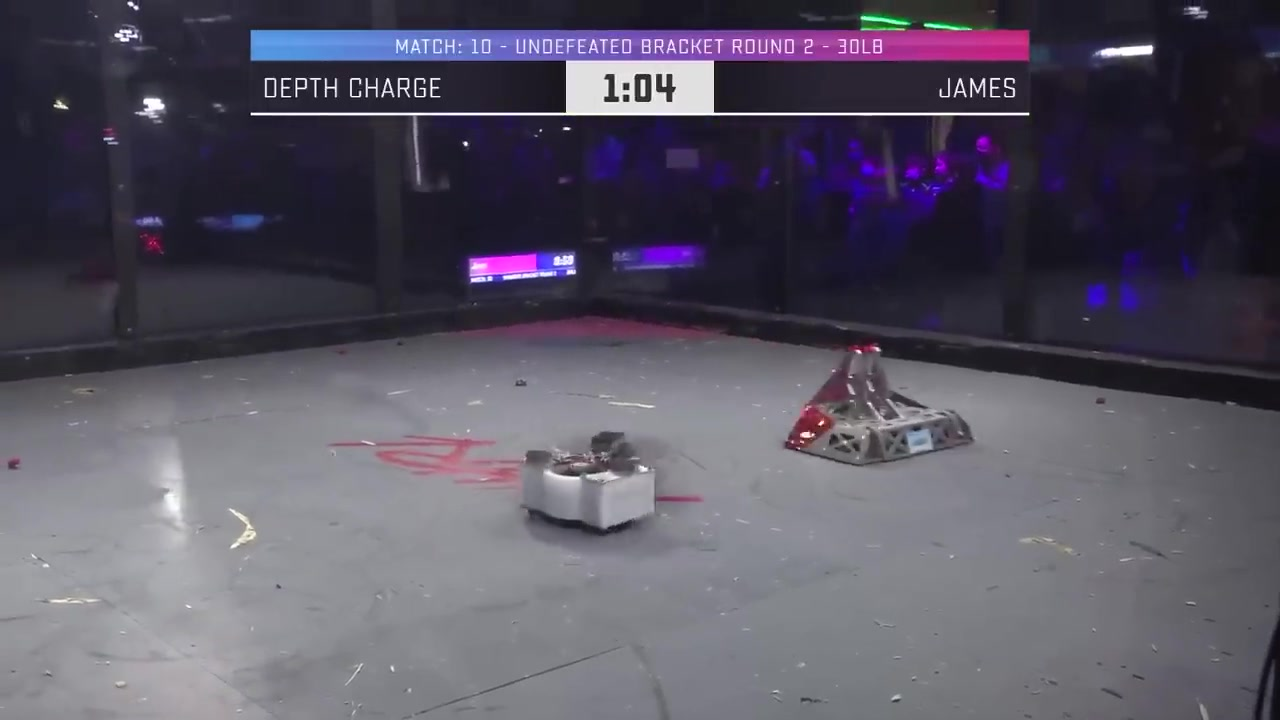combatbot: (782, 375, 977, 467), (518, 431, 657, 536)
